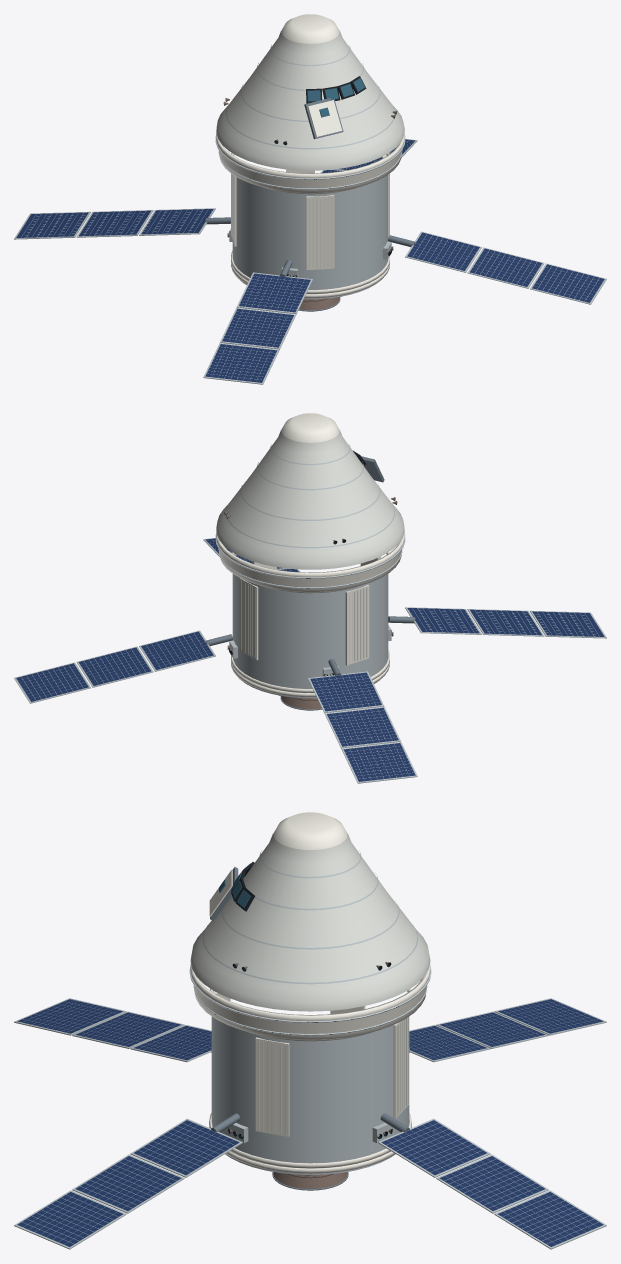
The model's file is orion_integrity.glb.
The picture shows the model from 3 angles, top to bottom: view 1: azimuth 30°, elevation 25°; view 2: azimuth 150°, elevation 25°; view 3: azimuth 270°, elevation 25°; orthographic projection. The views are drawn at different scales.
Visible parts, largest first — view 1: orion_cmmesh_Pale_thermal_blanket, orion_esmmesh_Satin_aluminum, orion_cmamesh_Warm_white_enamel, orion_esmradiator_04mesh_Warm_white_enamel, orion_esmwing_04panel_01cellsmesh_Indigo_solar_cells, orion_esmwing_04panel_01panel_02cellsmesh_Indigo_solar_cells, orion_esmwing_04panel_01panel_02panel_03cellsmesh_Indigo_sol, orion_esmwing_01panel_01cellsmesh_Indigo_solar_cells, orion_esmwing_01panel_01panel_02panel_03cellsmesh_Indigo_sol, orion_esmwing_01panel_01panel_02cellsmesh_Indigo_solar_cells, orion_esmwing_03panel_01panel_02panel_03cellsmesh_Indigo_sol, orion_esmwing_03panel_01panel_02cellsmesh_Indigo_solar_cells (+16 smaller); view 2: orion_cmmesh_Pale_thermal_blanket, orion_esmmesh_Satin_aluminum, orion_cmamesh_Warm_white_enamel, orion_esmwing_03panel_01cellsmesh_Indigo_solar_cells, orion_esmwing_03panel_01panel_02cellsmesh_Indigo_solar_cells, orion_esmwing_03panel_01panel_02panel_03cellsmesh_Indigo_sol, orion_esmradiator_03mesh_Warm_white_enamel, orion_esmwing_02panel_01cellsmesh_Indigo_solar_cells, orion_esmwing_02panel_01panel_02panel_03cellsmesh_Indigo_sol, orion_esmwing_02panel_01panel_02cellsmesh_Indigo_solar_cells, orion_esmradiator_02mesh_Warm_white_enamel, orion_esmwing_04panel_01panel_02panel_03cellsmesh_Indigo_sol (+17 smaller); view 3: orion_cmmesh_Pale_thermal_blanket, orion_esmmesh_Satin_aluminum, orion_cmamesh_Warm_white_enamel, orion_esmradiator_01mesh_Warm_white_enamel, orion_esmwing_01panel_01cellsmesh_Indigo_solar_cells, orion_esmwing_02panel_01cellsmesh_Indigo_solar_cells, orion_esmwing_01panel_01panel_02cellsmesh_Indigo_solar_cells, orion_esmwing_02panel_01panel_02cellsmesh_Indigo_solar_cells, orion_esmwing_01panel_01panel_02panel_03cellsmesh_Indigo_sol, orion_esmwing_02panel_01panel_02panel_03cellsmesh_Indigo_sol, orion_cmforward_covermesh_Warm_white_enamel, orion_esmmesh_Warm_white_enamel (+24 smaller).
Boxes of the visible parts, x1=… form: orion_cmmesh_Pale_thermal_blanket: x1=216, y1=31, x2=404, y2=170; orion_esmmesh_Satin_aluminum: x1=232, y1=153, x2=388, y2=299; orion_cmamesh_Warm_white_enamel: x1=216, y1=132, x2=404, y2=192; orion_esmradiator_04mesh_Warm_white_enamel: x1=306, y1=195, x2=334, y2=269; orion_esmwing_04panel_01cellsmesh_Indigo_solar_cells: x1=239, y1=273, x2=310, y2=312; orion_esmwing_04panel_01panel_02cellsmesh_Indigo_solar_cells: x1=222, y1=308, x2=293, y2=347; orion_esmwing_04panel_01panel_02panel_03cellsmesh_Indigo_sol: x1=205, y1=344, x2=277, y2=382; orion_esmwing_01panel_01cellsmesh_Indigo_solar_cells: x1=407, y1=232, x2=479, y2=270; orion_esmwing_01panel_01panel_02panel_03cellsmesh_Indigo_sol: x1=532, y1=264, x2=604, y2=302; orion_esmwing_01panel_01panel_02cellsmesh_Indigo_solar_cells: x1=470, y1=248, x2=542, y2=286; orion_esmwing_03panel_01panel_02panel_03cellsmesh_Indigo_sol: x1=16, y1=212, x2=88, y2=237; orion_esmwing_03panel_01panel_02cellsmesh_Indigo_solar_cells: x1=79, y1=210, x2=150, y2=236; orion_cmmesh_Pale_thermal_blanket: x1=216, y1=430, x2=404, y2=569; orion_esmmesh_Satin_aluminum: x1=232, y1=552, x2=388, y2=698; orion_cmamesh_Warm_white_enamel: x1=216, y1=531, x2=404, y2=591; orion_esmwing_03panel_01cellsmesh_Indigo_solar_cells: x1=310, y1=672, x2=381, y2=711; orion_esmwing_03panel_01panel_02cellsmesh_Indigo_solar_cells: x1=327, y1=707, x2=398, y2=746; orion_esmwing_03panel_01panel_02panel_03cellsmesh_Indigo_sol: x1=343, y1=743, x2=415, y2=781; orion_esmradiator_03mesh_Warm_white_enamel: x1=345, y1=585, x2=369, y2=665; orion_esmwing_02panel_01cellsmesh_Indigo_solar_cells: x1=141, y1=631, x2=213, y2=669; orion_esmwing_02panel_01panel_02panel_03cellsmesh_Indigo_sol: x1=16, y1=663, x2=88, y2=701; orion_esmwing_02panel_01panel_02cellsmesh_Indigo_solar_cells: x1=78, y1=647, x2=150, y2=685; orion_esmradiator_02mesh_Warm_white_enamel: x1=239, y1=578, x2=258, y2=660; orion_esmwing_04panel_01panel_02panel_03cellsmesh_Indigo_sol: x1=532, y1=611, x2=604, y2=636; orion_cmmesh_Pale_thermal_blanket: x1=190, y1=833, x2=430, y2=1011; orion_esmmesh_Satin_aluminum: x1=211, y1=1016, x2=409, y2=1174; orion_cmamesh_Warm_white_enamel: x1=190, y1=964, x2=430, y2=1039; orion_esmradiator_01mesh_Warm_white_enamel: x1=255, y1=1037, x2=289, y2=1136; orion_esmwing_01panel_01cellsmesh_Indigo_solar_cells: x1=133, y1=1120, x2=239, y2=1175; orion_esmwing_02panel_01cellsmesh_Indigo_solar_cells: x1=381, y1=1120, x2=487, y2=1175; orion_esmwing_01panel_01panel_02cellsmesh_Indigo_solar_cells: x1=76, y1=1156, x2=181, y2=1210; orion_esmwing_02panel_01panel_02cellsmesh_Indigo_solar_cells: x1=439, y1=1156, x2=544, y2=1210; orion_esmwing_01panel_01panel_02panel_03cellsmesh_Indigo_sol: x1=17, y1=1192, x2=122, y2=1246; orion_esmwing_02panel_01panel_02panel_03cellsmesh_Indigo_sol: x1=498, y1=1192, x2=603, y2=1246; orion_cmforward_covermesh_Warm_white_enamel: x1=273, y1=812, x2=347, y2=849; orion_esmmesh_Warm_white_enamel: x1=209, y1=989, x2=411, y2=1173.
Size of the model in its own units: 12.4 by 8.13 by 12.4.
